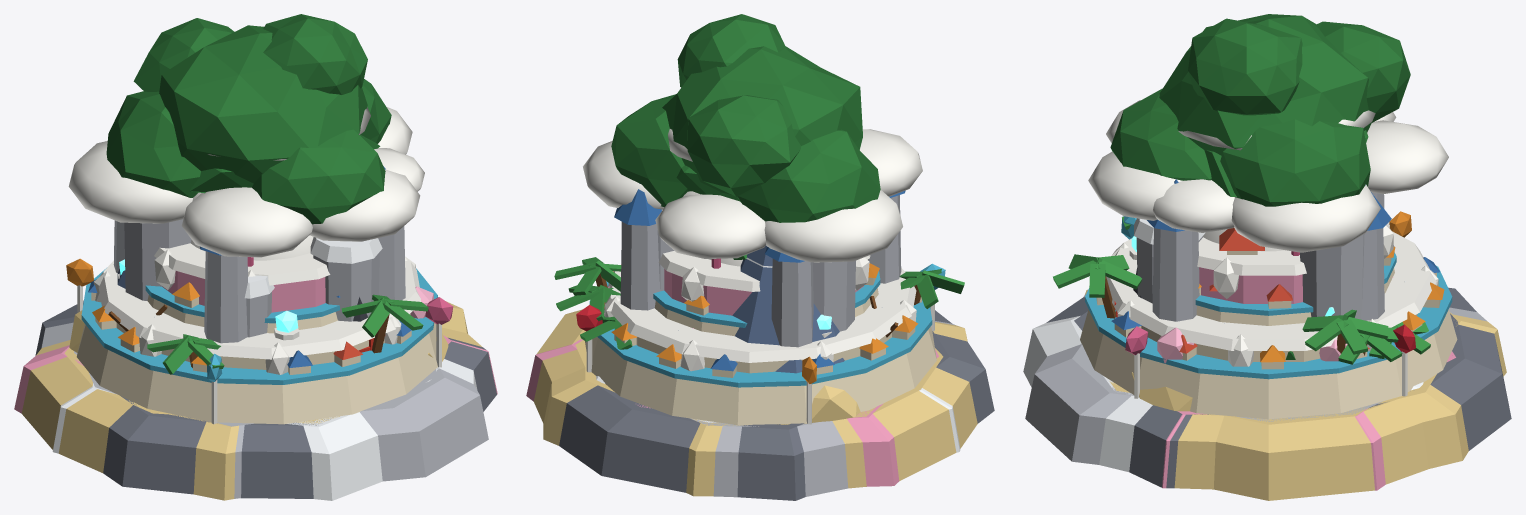
Rendered from islands.glb.
3 renders of one model, left to right at view 1: azimuth 30°, elevation 25°; view 2: azimuth 150°, elevation 25°; view 3: azimuth 270°, elevation 25°, orthographic. The views are drawn at different scales.
Parts seen in each view (by area): view 1: IslandTree, IslandCity, IslandSky, IslandCake, IslandSnow, IslandRock, IslandTech, IslandDesert, IslandFortress, IslandTropical, IslandWano; view 2: IslandTree, IslandCity, IslandCake, IslandSky, IslandRock, IslandDesert, IslandFortress, IslandTech, IslandWano, IslandTropical, IslandSnow, IslandTown; view 3: IslandTree, IslandCity, IslandSky, IslandCake, IslandTown, IslandFortress, IslandSnow, IslandTech, IslandTropical, IslandRock, IslandDesert, IslandWano.
Part boxes in pixels (bbox=[...]): IslandTree: bbox=[106, 14, 482, 500]; IslandCity: bbox=[76, 268, 437, 498]; IslandSky: bbox=[68, 107, 424, 257]; IslandCake: bbox=[14, 243, 497, 424]; IslandSnow: bbox=[52, 219, 477, 500]; IslandRock: bbox=[35, 296, 367, 498]; IslandTech: bbox=[41, 107, 488, 481]; IslandDesert: bbox=[21, 310, 448, 472]; IslandFortress: bbox=[113, 166, 496, 411]; IslandTropical: bbox=[79, 294, 428, 424]; IslandWano: bbox=[36, 269, 433, 361]; IslandTree: bbox=[543, 14, 967, 445]; IslandCity: bbox=[585, 263, 955, 425]; IslandCake: bbox=[526, 251, 945, 486]; IslandSky: bbox=[583, 129, 922, 262]; IslandRock: bbox=[559, 296, 994, 500]; IslandDesert: bbox=[556, 285, 977, 480]; IslandFortress: bbox=[614, 183, 905, 347]; IslandTech: bbox=[668, 129, 848, 497]; IslandWano: bbox=[608, 245, 875, 488]; IslandTropical: bbox=[533, 254, 964, 423]; IslandSnow: bbox=[596, 209, 960, 452]; IslandTown: bbox=[537, 309, 865, 496]; IslandTree: bbox=[1085, 14, 1468, 489]; IslandCity: bbox=[1077, 246, 1457, 421]; IslandSky: bbox=[1088, 100, 1448, 252]; IslandCake: bbox=[1106, 211, 1455, 490]; IslandTown: bbox=[1213, 312, 1506, 500]; IslandFortress: bbox=[1129, 179, 1391, 488]; IslandSnow: bbox=[1023, 218, 1423, 471]; IslandTech: bbox=[1025, 110, 1487, 464]; IslandTropical: bbox=[1053, 216, 1428, 484]; IslandRock: bbox=[1046, 268, 1511, 450]; IslandDesert: bbox=[1131, 322, 1430, 411]; IslandWano: bbox=[1114, 228, 1394, 363].
Bounding box in the file's own units: 2.25 × 1.96 × 2.22.
